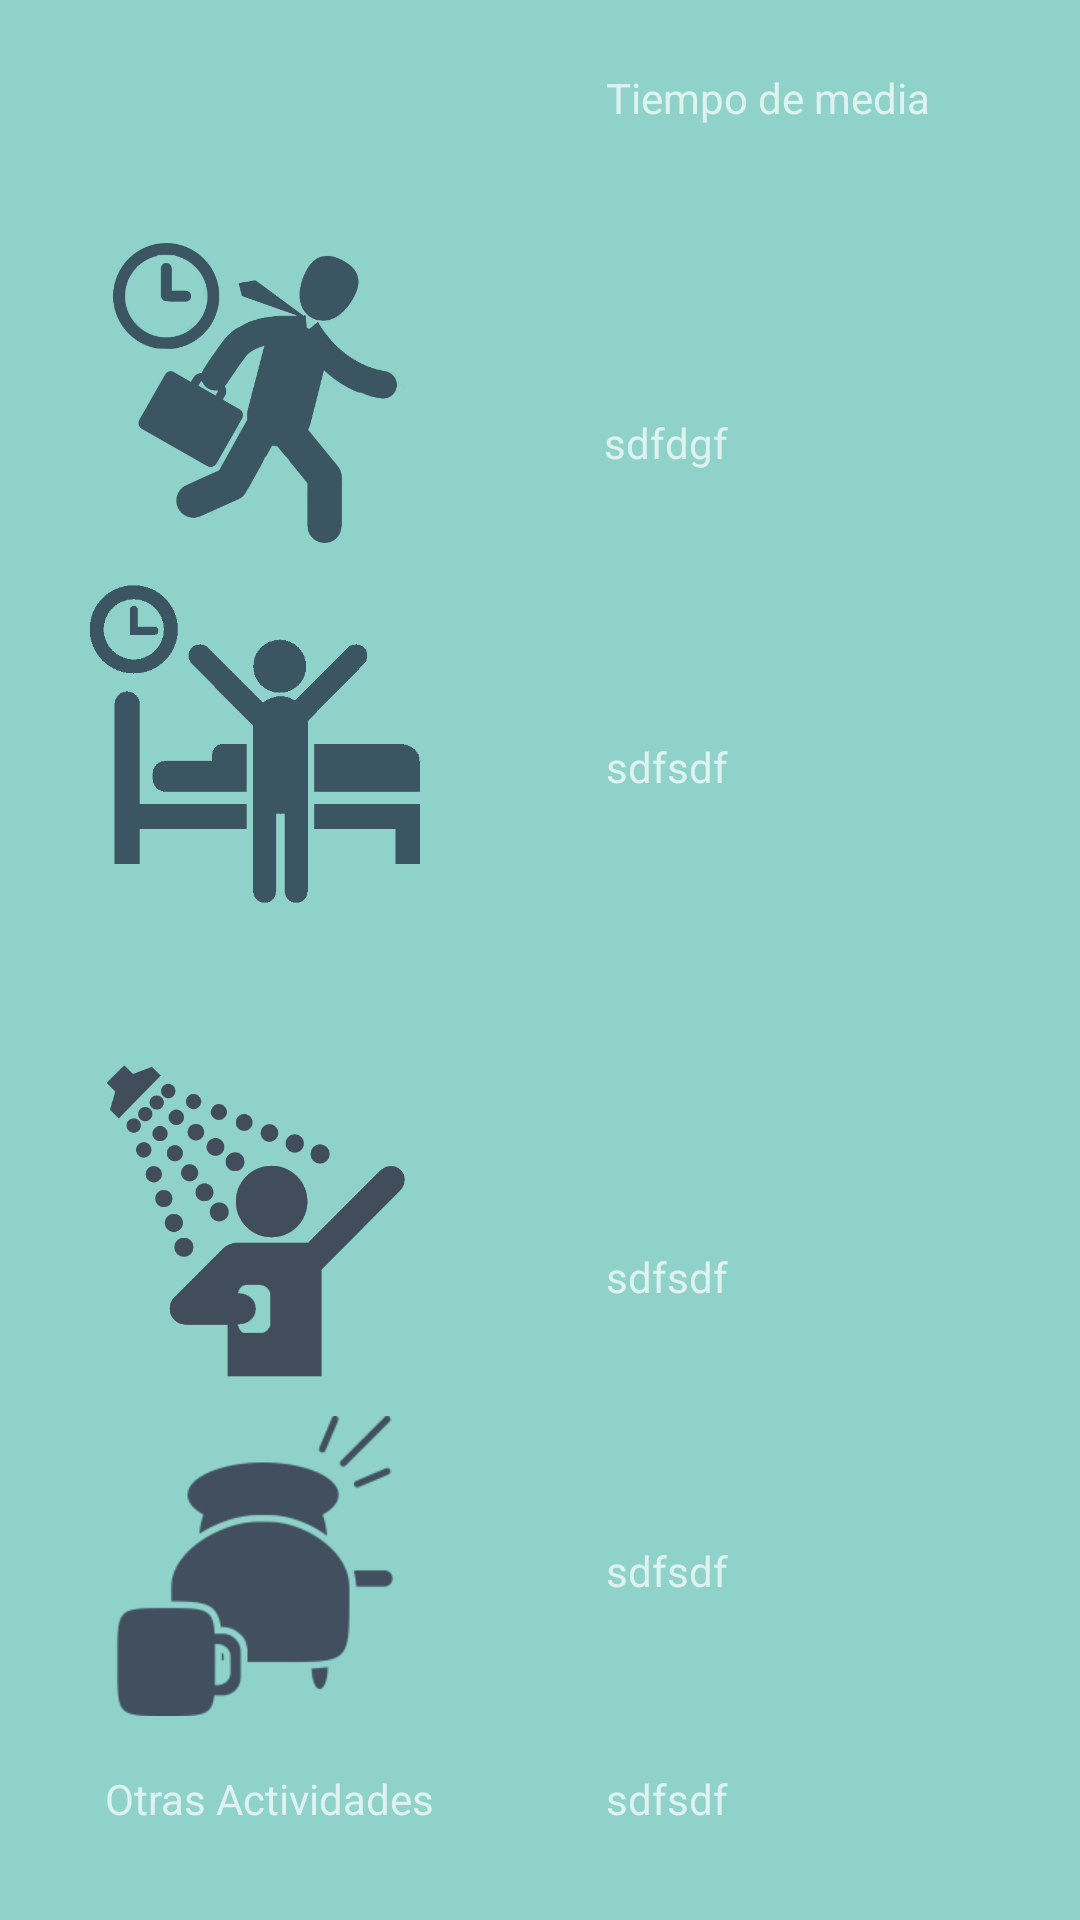

Icons on this 1080px×1920px Android screen, each with the point to tap as [x,y]:
breakfast: [255,1566]
getup: [255,744]
goingtowork: [255,393]
shower: [256,1221]
